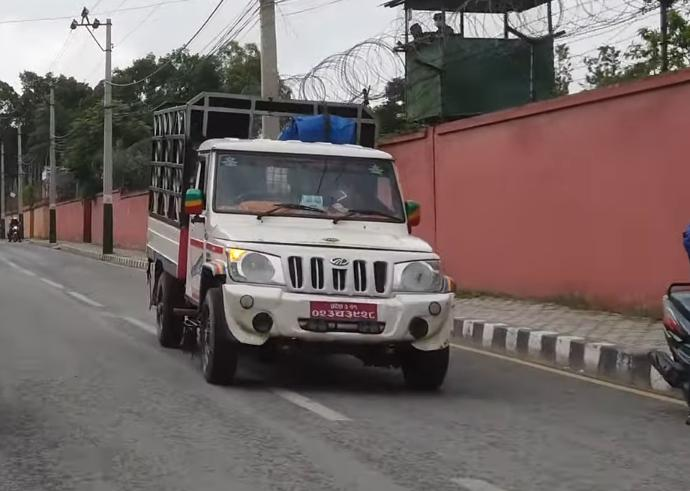transport_vehicle: (130, 84, 466, 406)
